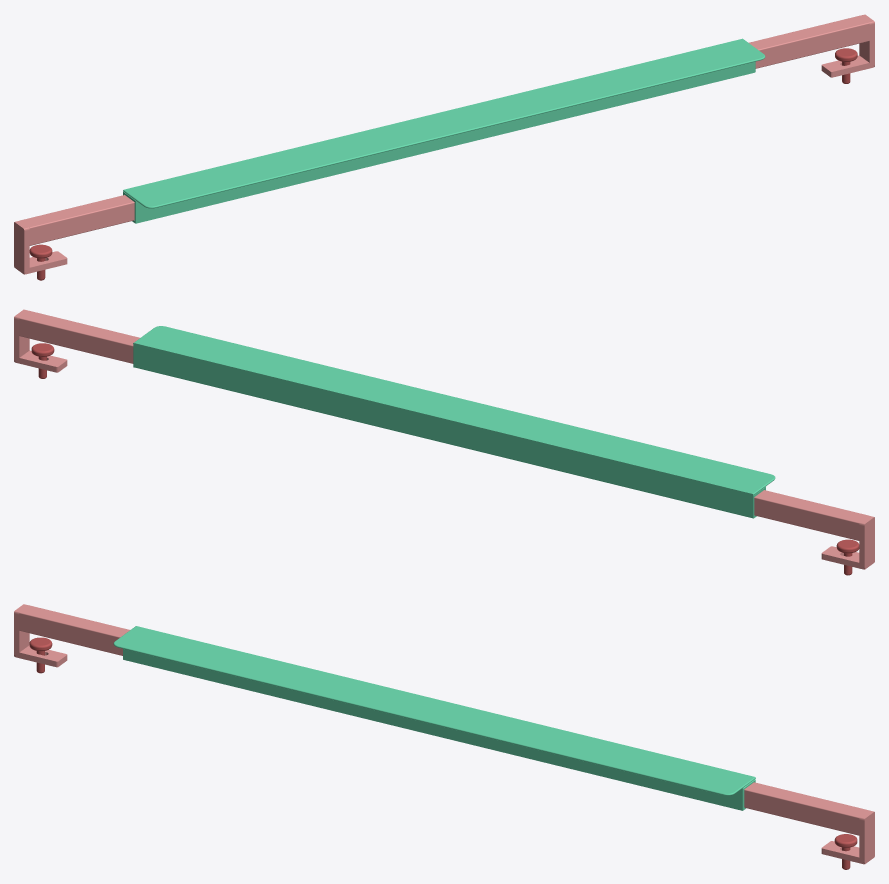
Rendered from ergoflex-easel-accessory.glb.
The picture shows the model from 3 angles, top to bottom: view 1: azimuth 30°, elevation 25°; view 2: azimuth 150°, elevation 25°; view 3: azimuth 330°, elevation 25°; orthographic projection.
Visible parts, largest first — view 1: Mesh_6, Mesh_0, Mesh_4; view 2: Mesh_6, Mesh_0, Mesh_4; view 3: Mesh_6, Mesh_0, Mesh_4.
Boxes of the visible parts, x1=… form: Mesh_6: x1=123, y1=38, x2=765, y2=223; Mesh_0: x1=14, y1=14, x2=874, y2=274; Mesh_4: x1=29, y1=48, x2=857, y2=280; Mesh_6: x1=133, y1=326, x2=775, y2=518; Mesh_0: x1=14, y1=309, x2=874, y2=569; Mesh_4: x1=31, y1=343, x2=859, y2=575; Mesh_6: x1=113, y1=626, x2=755, y2=810; Mesh_0: x1=14, y1=604, x2=874, y2=864; Mesh_4: x1=29, y1=637, x2=857, y2=869.
Size of the model in its own units: 1.49 by 0.1057 by 0.0763.
